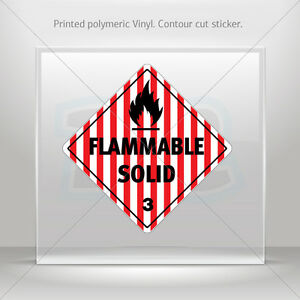FlammableSolid: (76, 70, 214, 225)
